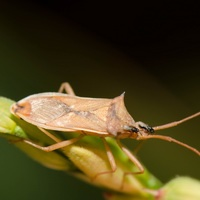insect: (7, 82, 199, 199)
